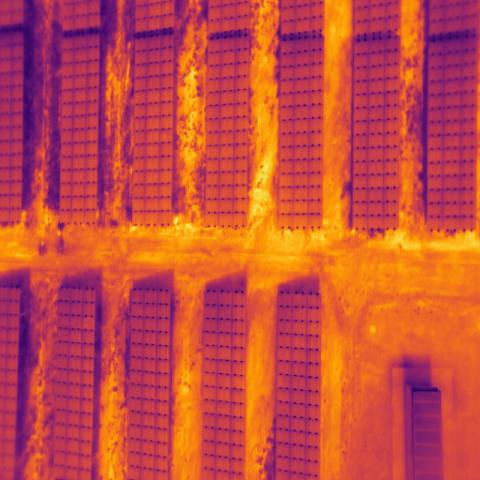fault: (82, 318, 94, 330)
